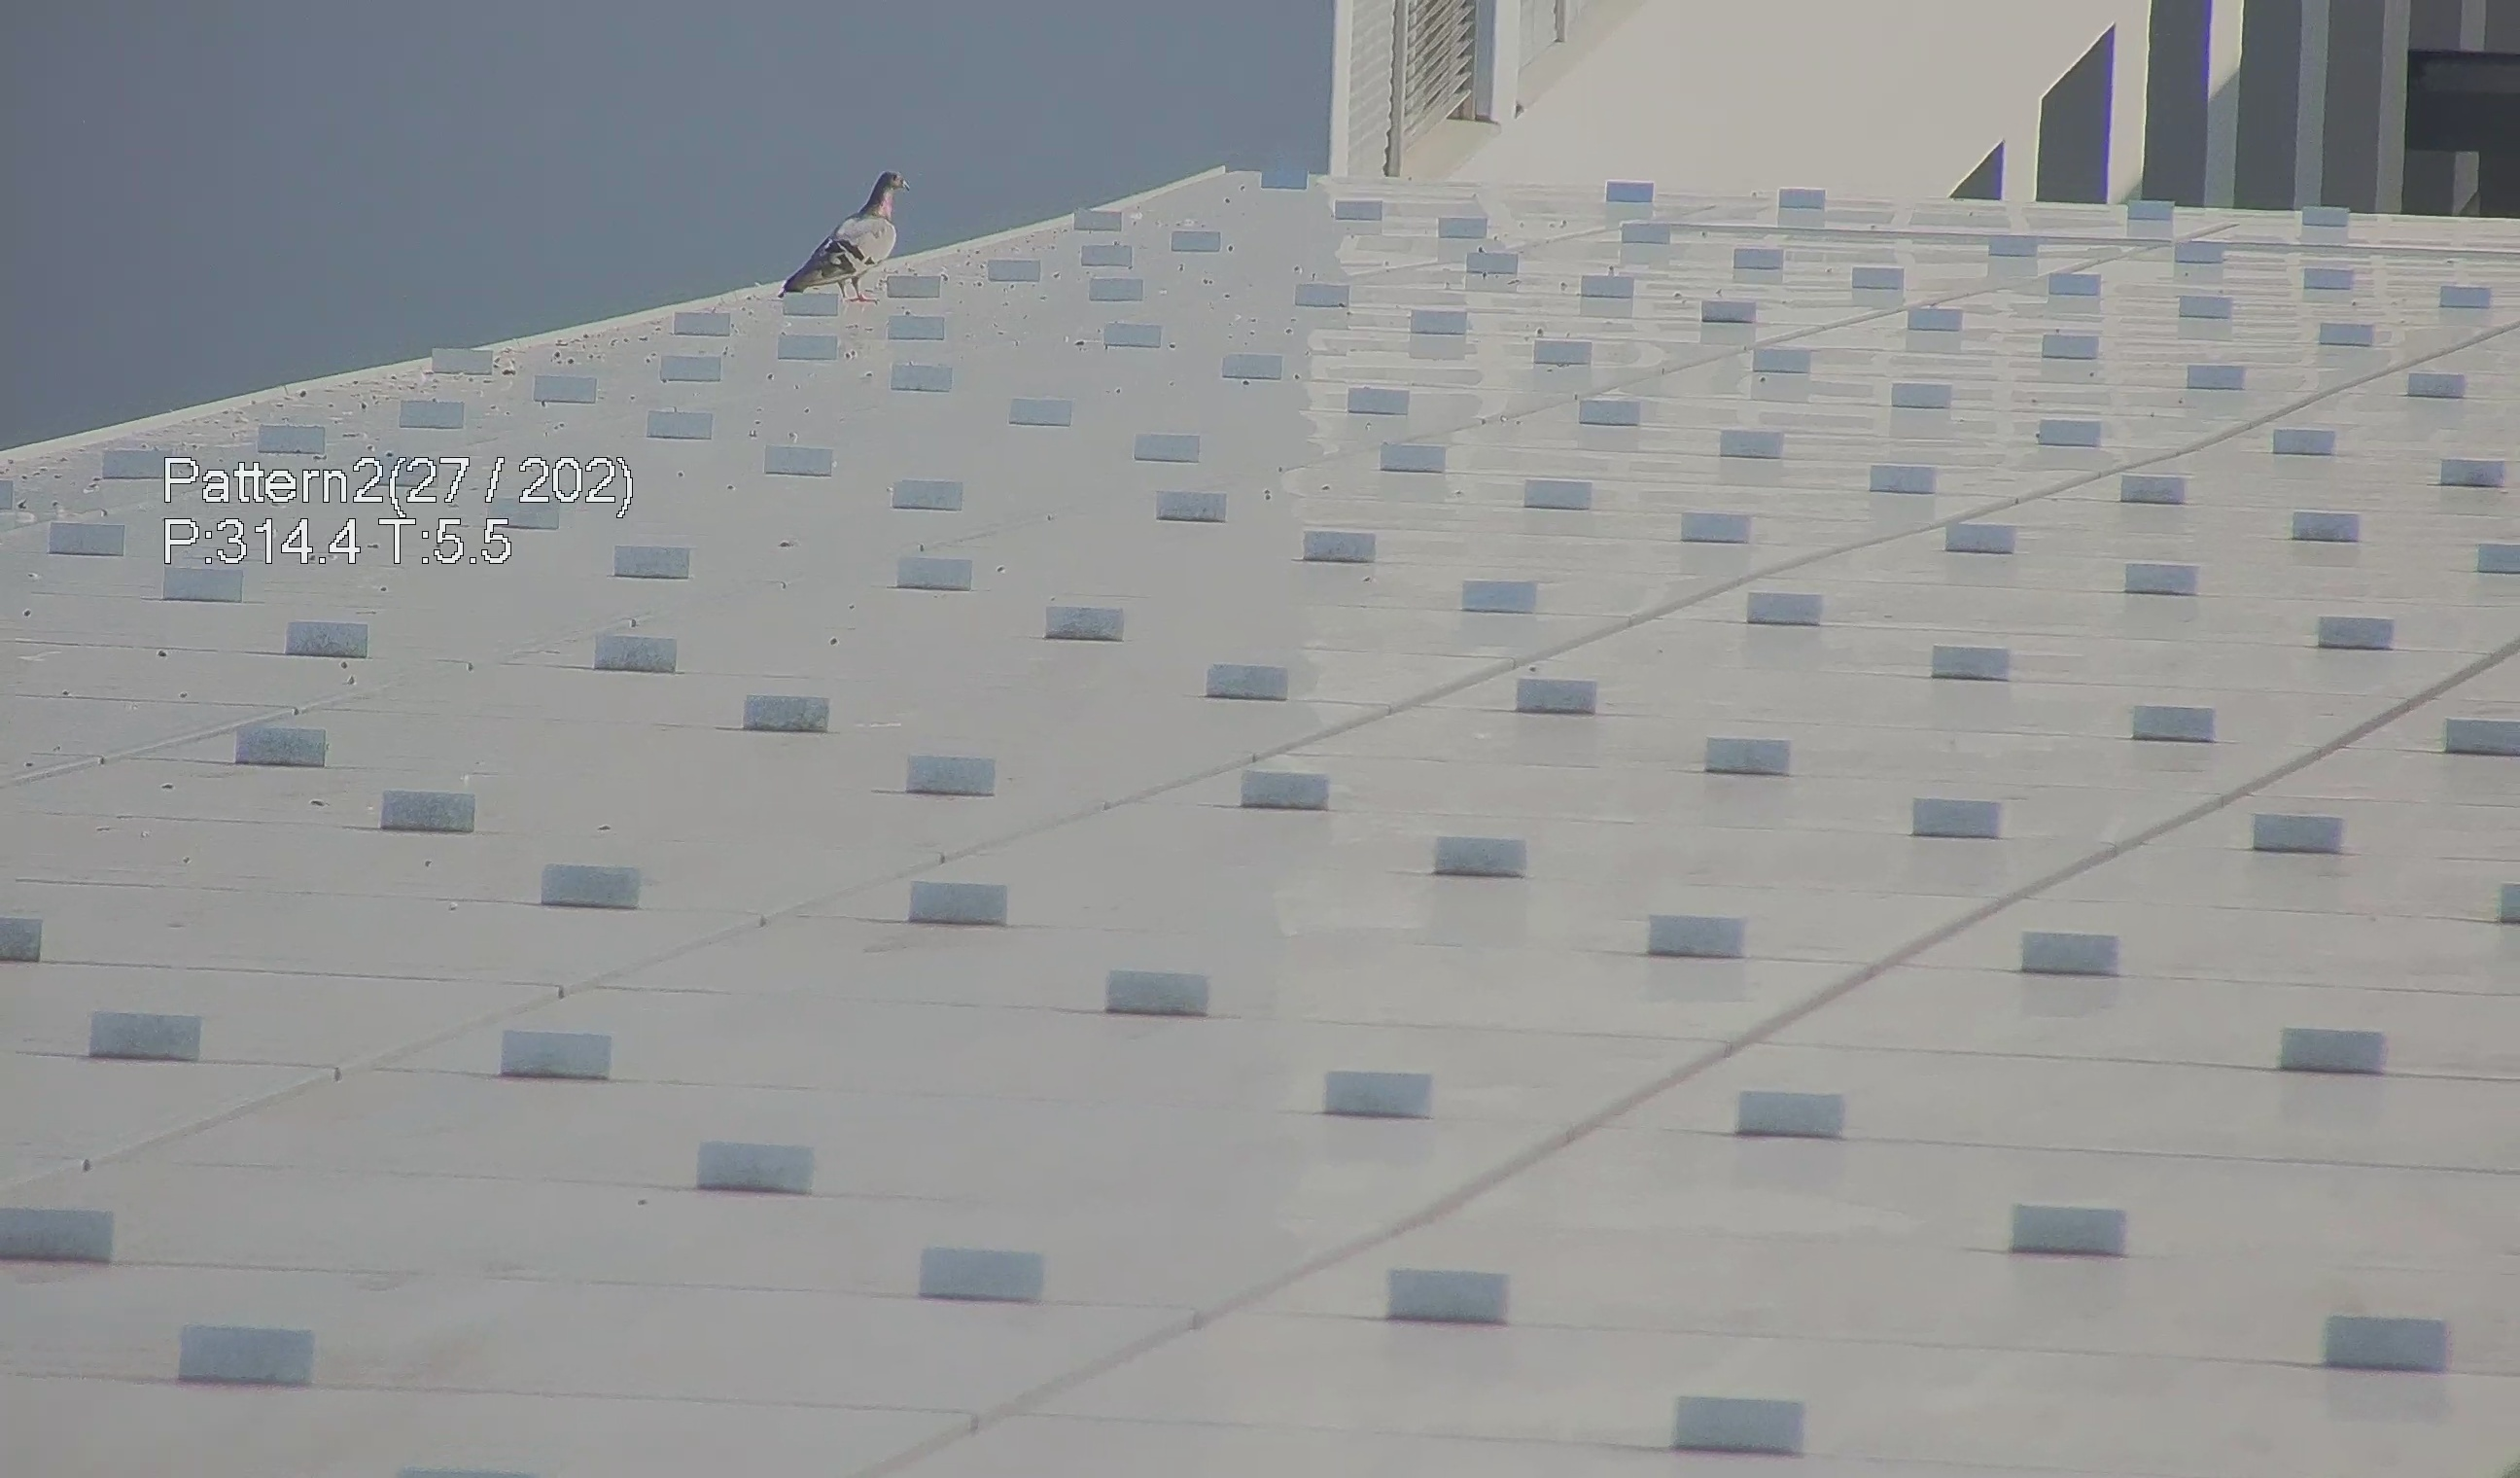Pigeon: (761, 164, 913, 308)
